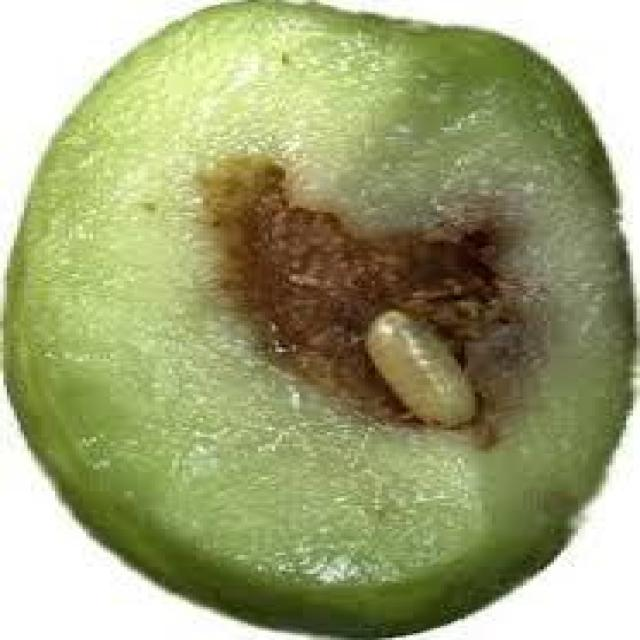Olive Fruit Fly: (7, 0, 633, 635)
